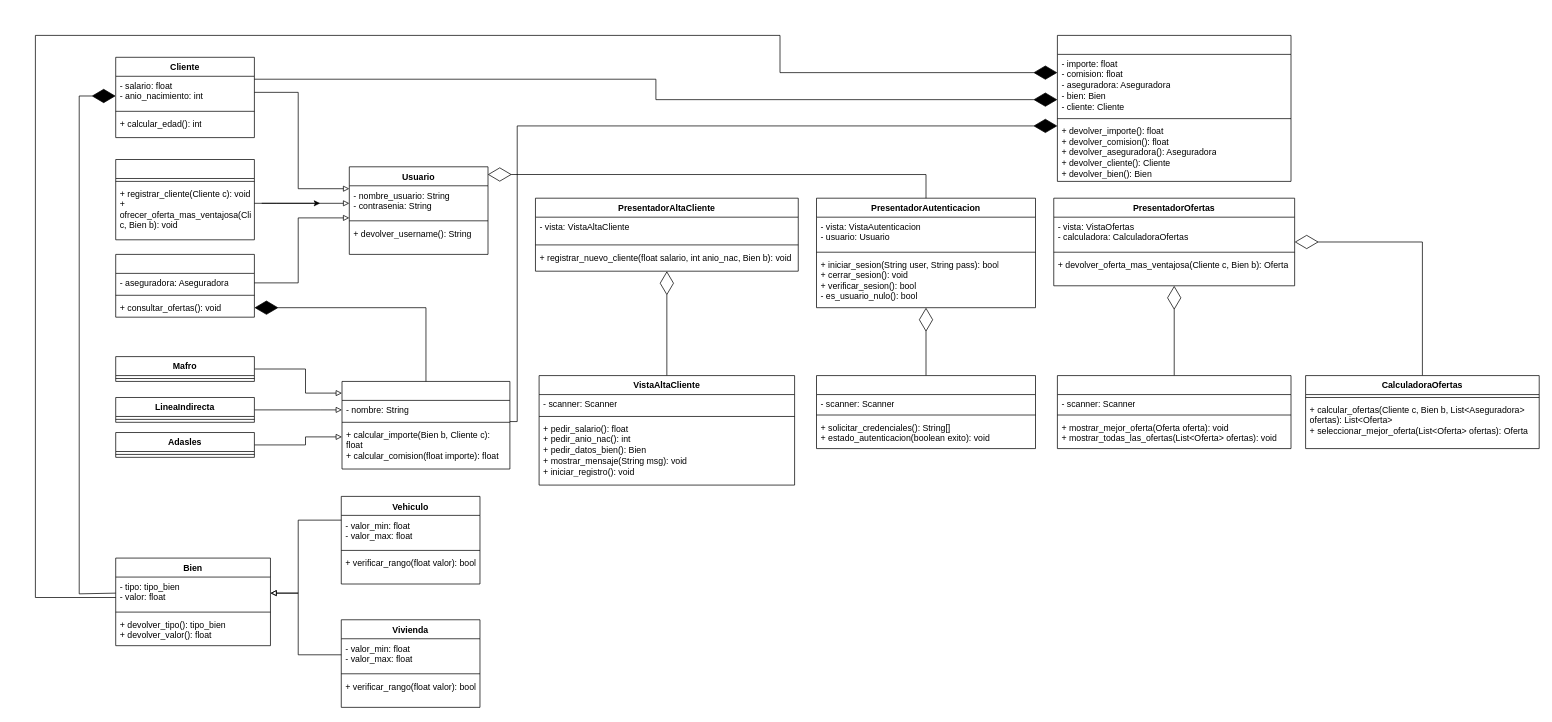
Some shapes in this 1552 by 722 pixel diagram are drawn without their labels. The shapes that lost their labels are listed below. From the top down, each one's box as (x1, y1, x2, y2) in pixels, then its label:
(1057, 35, 1291, 181): Oferta
(115, 159, 254, 240): Tecnico Comercial
(115, 254, 254, 317): Agente de Aseguradora
(341, 381, 510, 469): Aseguradora
(816, 375, 1036, 449): VistaAutenticacion
(1057, 375, 1291, 449): VistaOfertas
